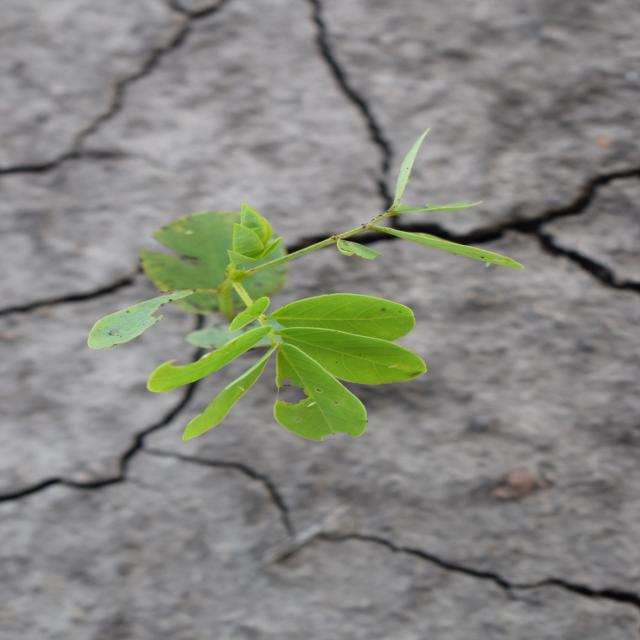Sicklepod: (84, 123, 528, 445)
